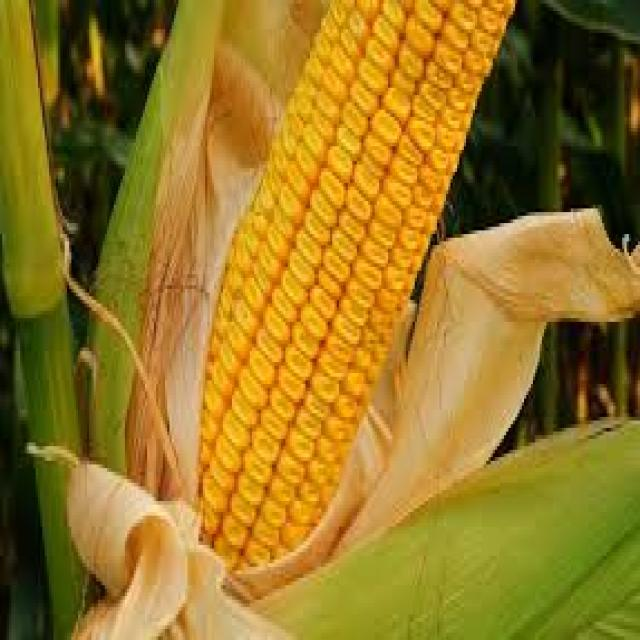purecorn: (189, 0, 551, 560)
